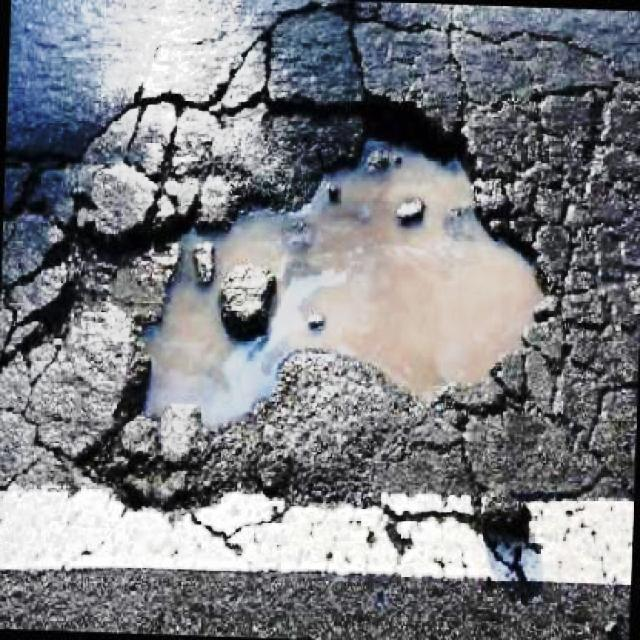pothole: (0, 81, 569, 488)
